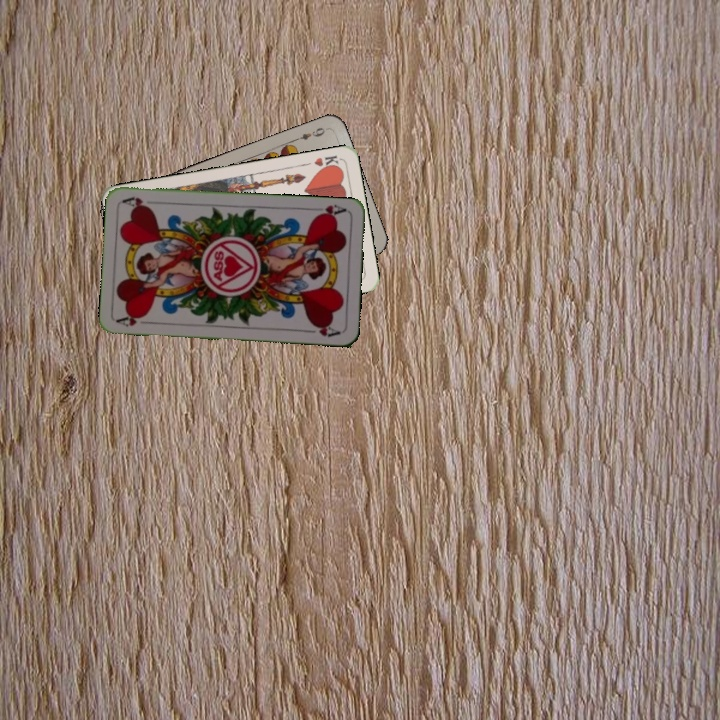E9: (290, 123, 329, 144)
HA: (114, 310, 154, 329), (311, 201, 349, 220)
HK: (302, 151, 342, 173)
